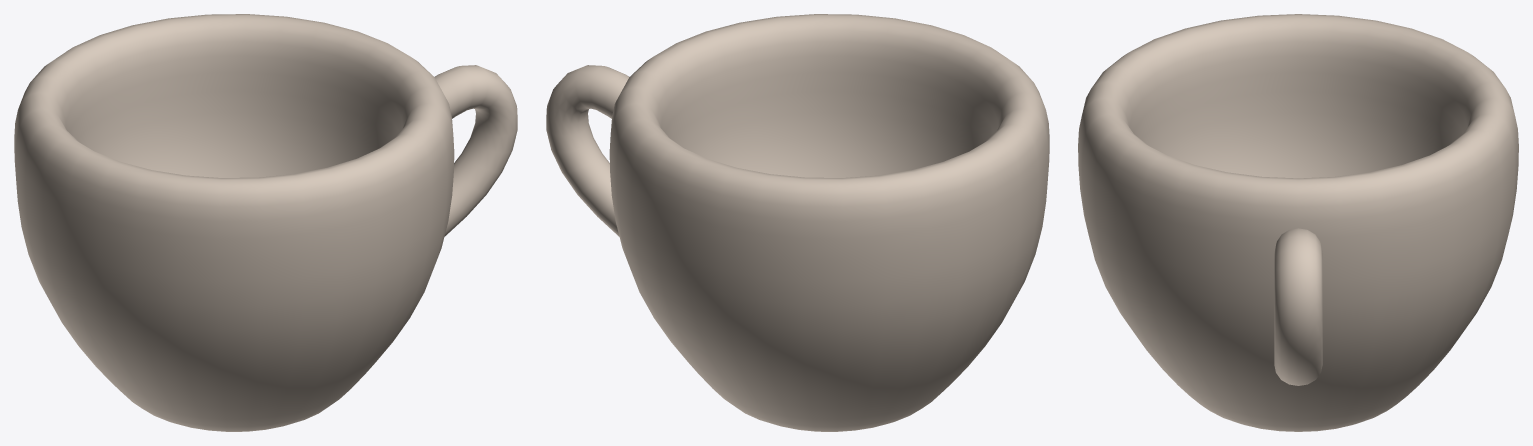
File: SM_coffee_cup.glb
3 views of the same model, side by side, from view 1: azimuth 30°, elevation 25°; view 2: azimuth 150°, elevation 25°; view 3: azimuth 270°, elevation 25° (orthographic).
Parts seen in each view (by area): view 1: SM_coffee_cup; view 2: SM_coffee_cup; view 3: SM_coffee_cup.
Part boxes in pixels (<box>): SM_coffee_cup: <box>14,14,517,431</box>; SM_coffee_cup: <box>546,14,1049,431</box>; SM_coffee_cup: <box>1078,14,1518,431</box>.
Size of the model in its own units: 0.1683 by 0.102 by 0.1365.
Materials: 1 (1 with a texture image).
